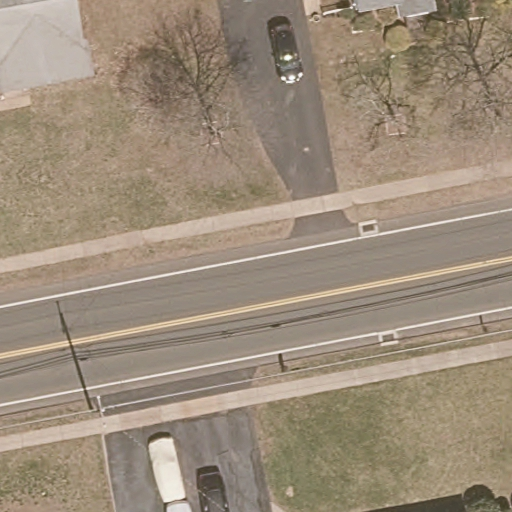DT: (94, 394, 110, 429)
